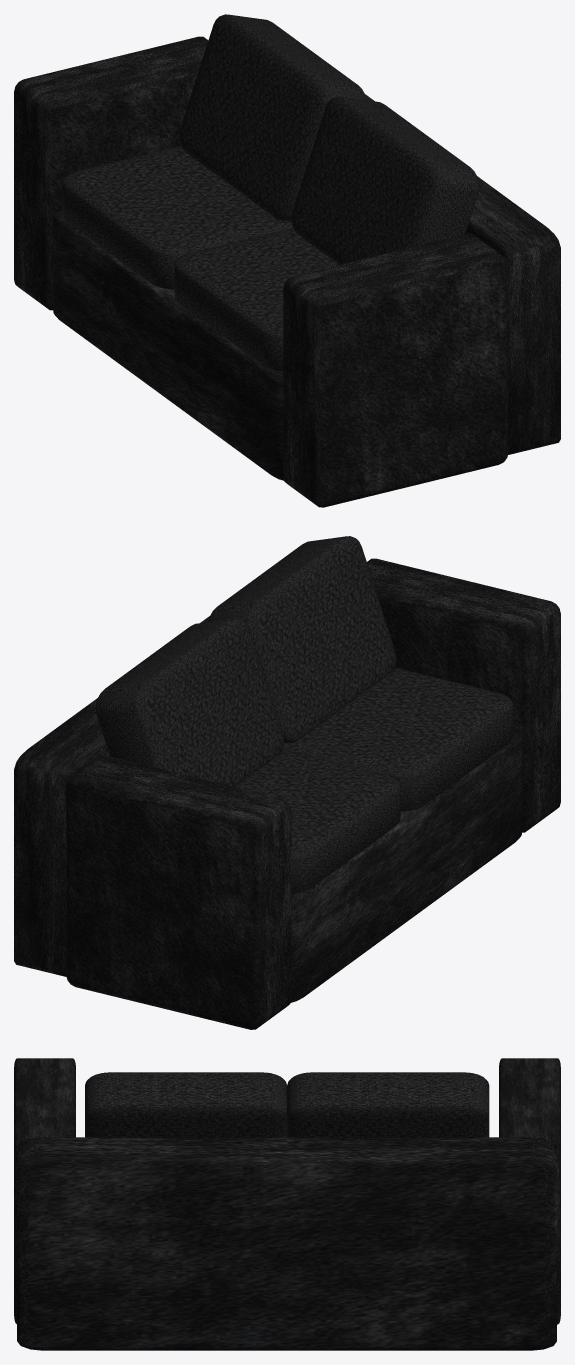
File: Couch.fbx
3 renders of one model, top to bottom at view 1: azimuth 30°, elevation 25°; view 2: azimuth 150°, elevation 25°; view 3: azimuth 270°, elevation 25°, orthographic. The views are drawn at different scales.
Parts seen in each view (by area): view 1: Cube.002; view 2: Cube.002; view 3: Cube.002.
Boxes of the visible parts, left/top/right/bottom form: Cube.002: left=14, top=14, right=560, bottom=507; Cube.002: left=14, top=536, right=560, bottom=1029; Cube.002: left=14, top=1058, right=560, bottom=1350.
Bounding box in the file's own units: 257 × 266 × 541.
Materials: 2 (2 with a texture image).
